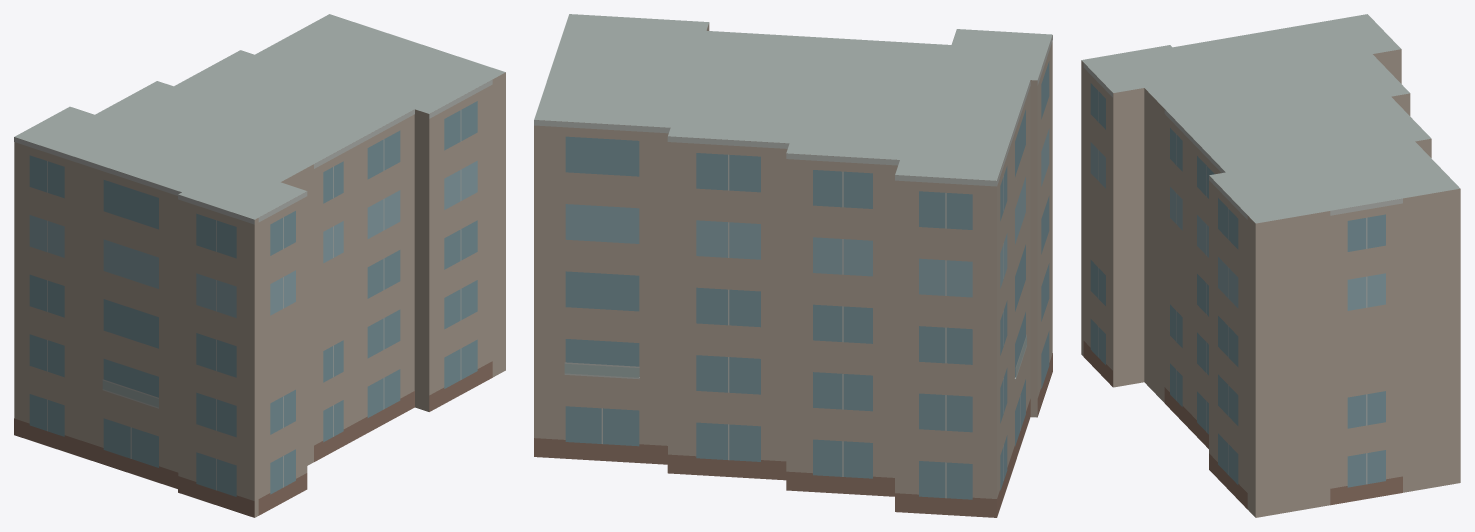
The model's file is survey-upis-32707868.glb.
3 renders of one model, left to right at view 1: azimuth 30°, elevation 25°; view 2: azimuth 150°, elevation 25°; view 3: azimuth 270°, elevation 25°, orthographic. The views are drawn at different scales.
Visible parts, largest first — view 1: survey-upis-32707868.tmp; view 2: survey-upis-32707868.tmp; view 3: survey-upis-32707868.tmp.
Part boxes in pixels (box(x1,y1,x2,y2)): survey-upis-32707868.tmp: box(14, 14, 505, 517); survey-upis-32707868.tmp: box(534, 14, 1052, 517); survey-upis-32707868.tmp: box(1081, 14, 1460, 517).
Size of the model in its own units: 22.14 by 14.5 by 16.94.
